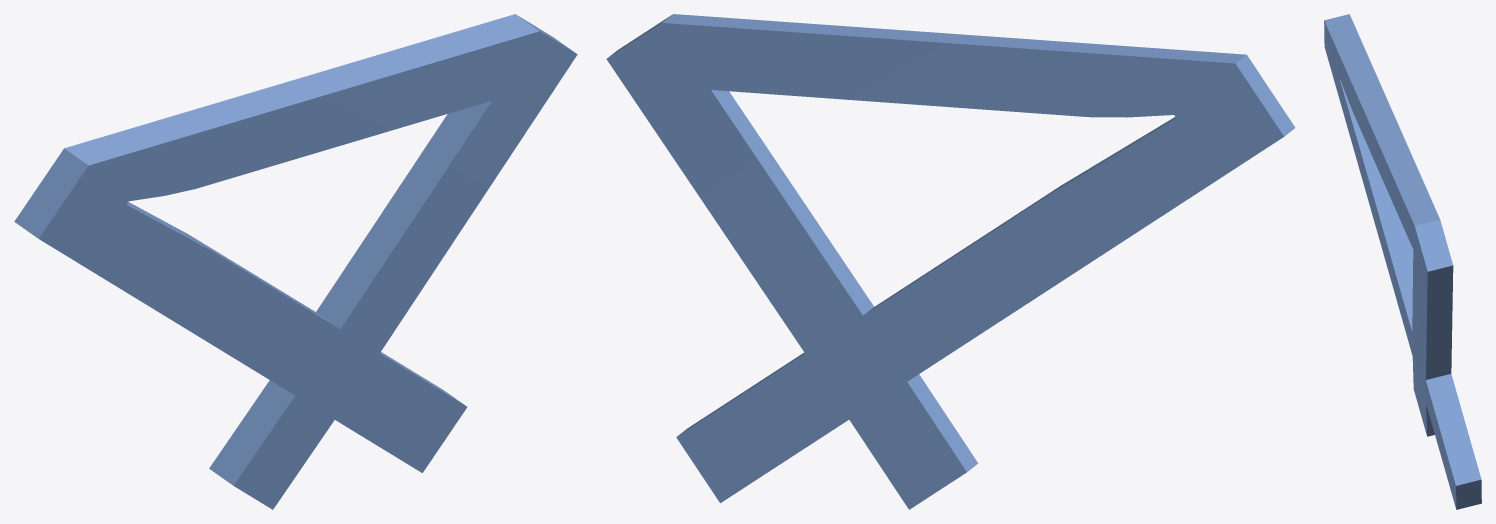
File: Number_4.gltf
3 views of the same model, side by side, from view 1: azimuth 30°, elevation 25°; view 2: azimuth 150°, elevation 25°; view 3: azimuth 270°, elevation 25° (orthographic). The views are drawn at different scales.
Parts seen in each view (by area): view 1: Sub_4_Cell_3_3_Number_4; view 2: Sub_4_Cell_3_3_Number_4; view 3: Sub_4_Cell_3_3_Number_4.
Part boxes in pixels (x1=…): Sub_4_Cell_3_3_Number_4: x1=14, y1=14, x2=577, y2=509; Sub_4_Cell_3_3_Number_4: x1=606, y1=14, x2=1295, y2=509; Sub_4_Cell_3_3_Number_4: x1=1324, y1=14, x2=1481, y2=509.
Bounding box in the file's own units: 0.0244 × 0.0183 × 0.00757.
